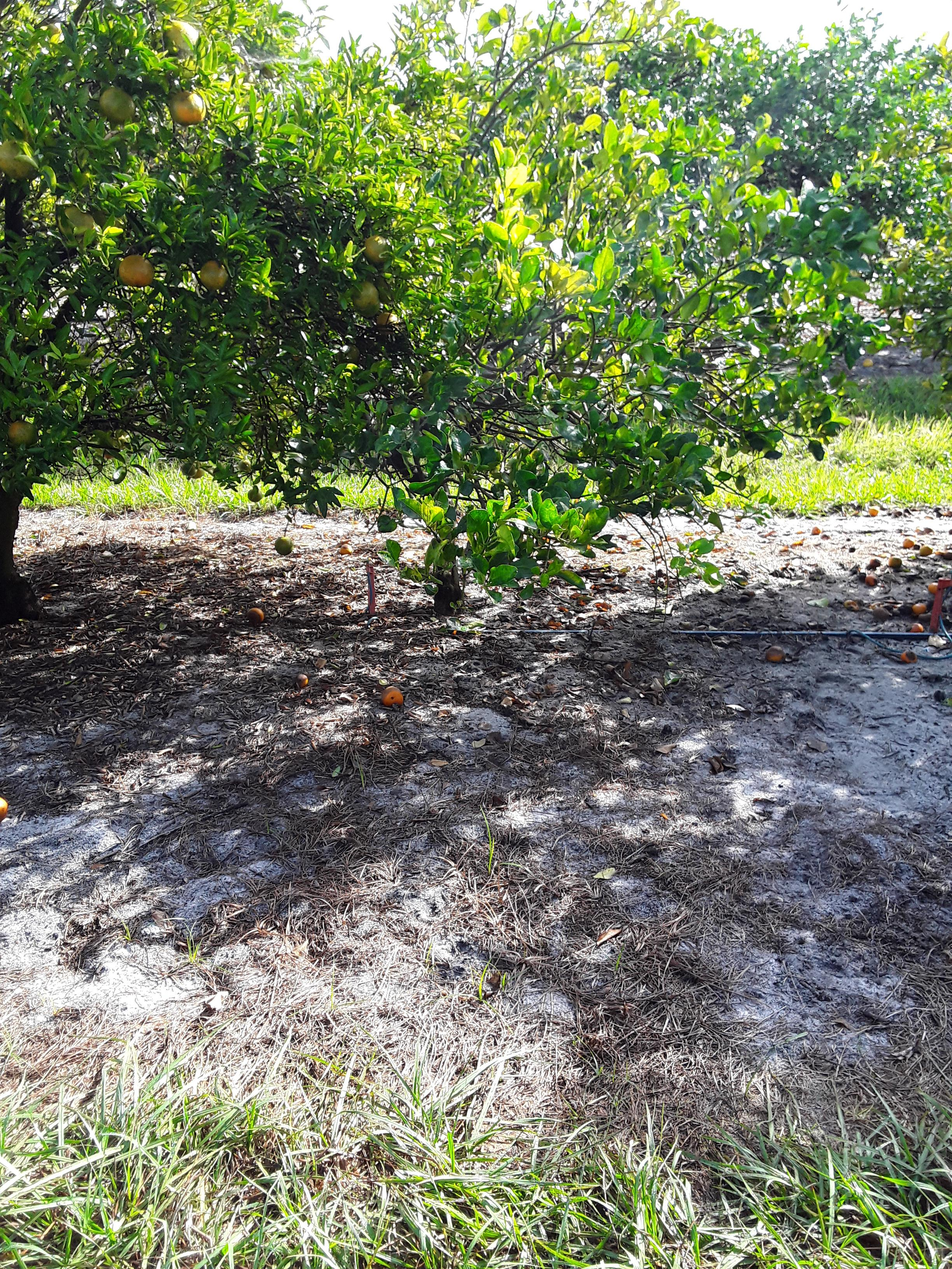fruit_on_ground: (53, 199, 98, 241), (95, 84, 138, 126), (0, 135, 39, 180), (167, 87, 210, 126), (161, 16, 202, 54), (116, 253, 156, 289), (347, 278, 381, 315), (196, 257, 231, 292), (3, 417, 38, 448), (362, 232, 394, 265), (373, 309, 400, 331), (336, 343, 360, 367), (271, 533, 295, 557), (181, 459, 200, 480), (245, 483, 264, 504), (189, 465, 207, 483), (237, 458, 253, 474)
fruit_on_tree: (380, 684, 406, 708), (243, 603, 267, 627), (763, 643, 787, 665), (0, 791, 12, 824), (899, 648, 920, 665), (871, 605, 891, 622), (453, 936, 472, 953), (294, 671, 310, 688), (925, 579, 943, 594), (337, 541, 354, 556), (887, 553, 903, 568), (911, 601, 927, 615), (918, 542, 934, 556), (843, 598, 860, 611), (860, 355, 875, 369), (581, 542, 596, 556), (866, 555, 881, 569), (909, 621, 926, 633), (863, 573, 877, 587), (936, 547, 951, 560), (900, 536, 915, 549), (791, 535, 805, 546), (810, 524, 822, 536), (868, 506, 881, 517), (891, 508, 903, 518)
